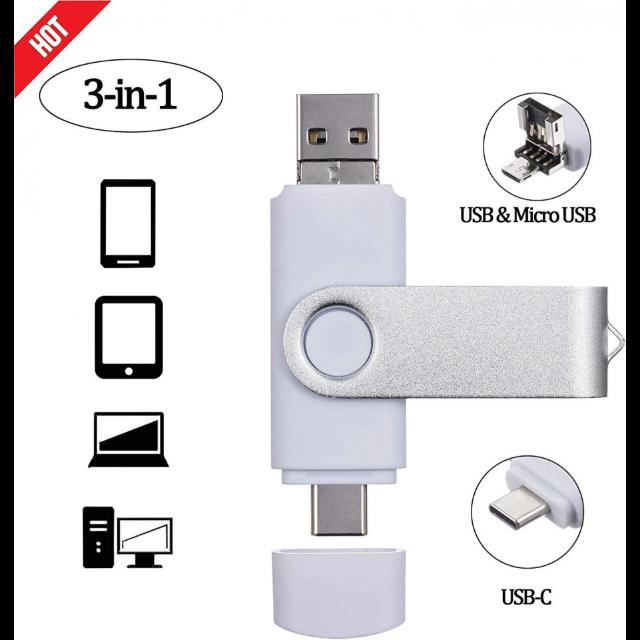USB-Flash-Drive: (271, 94, 407, 491)
